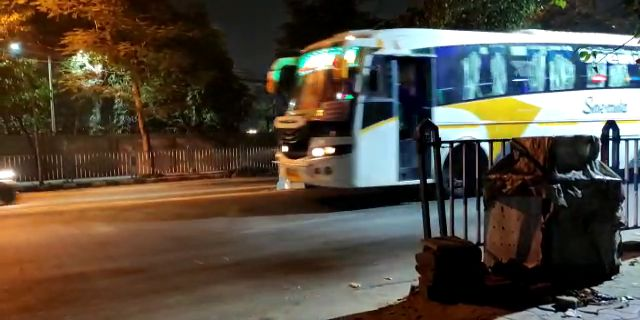Bus: (257, 30, 631, 193)
